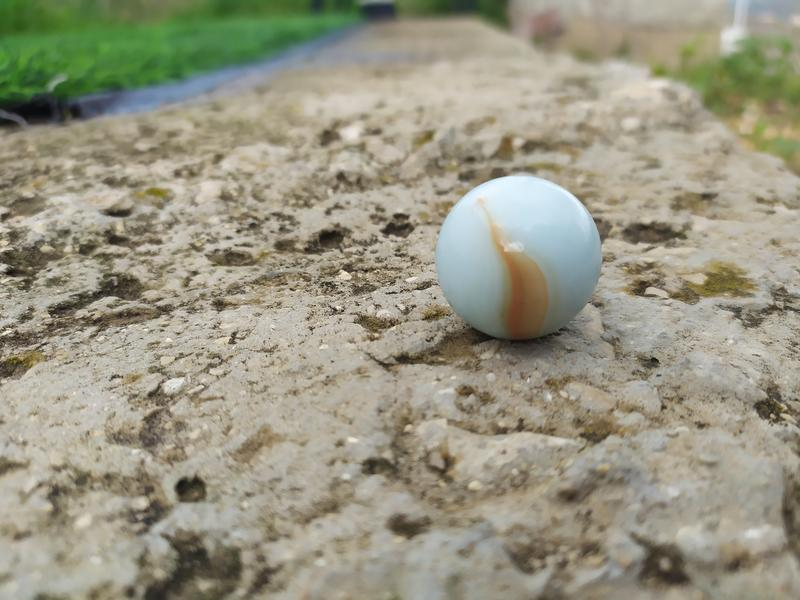Warning: (431, 170, 608, 346)
